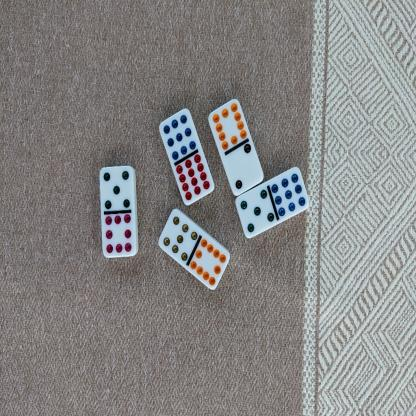pip-10: (189, 237, 229, 289), (207, 99, 246, 151)
pip-12: (175, 152, 214, 204)
pip-2: (229, 142, 264, 196)
pip-5: (235, 186, 275, 238), (98, 164, 134, 210)
pip-7: (158, 208, 198, 261)
pip-8: (102, 211, 136, 257)
pip-9: (270, 164, 309, 216), (158, 108, 195, 161)
